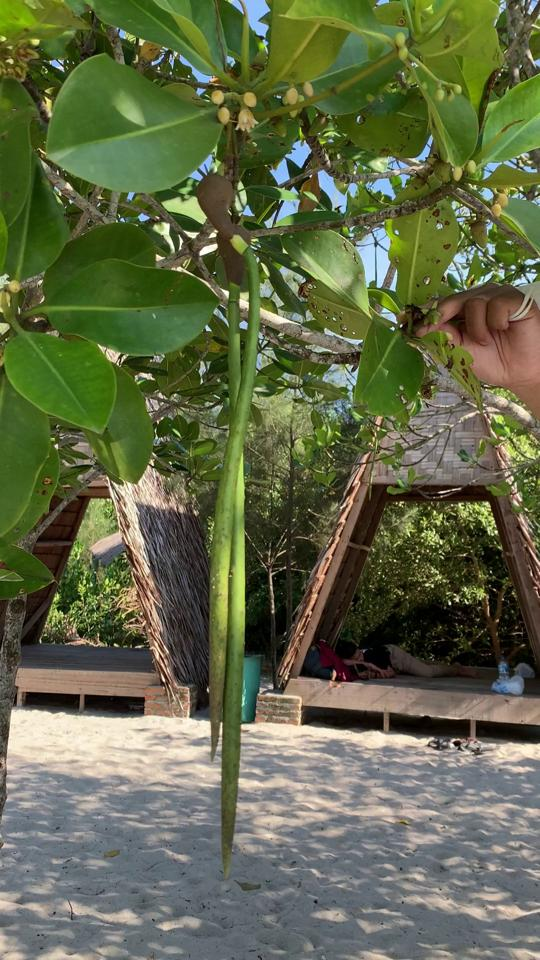setengah matang: (176, 151, 284, 880)
